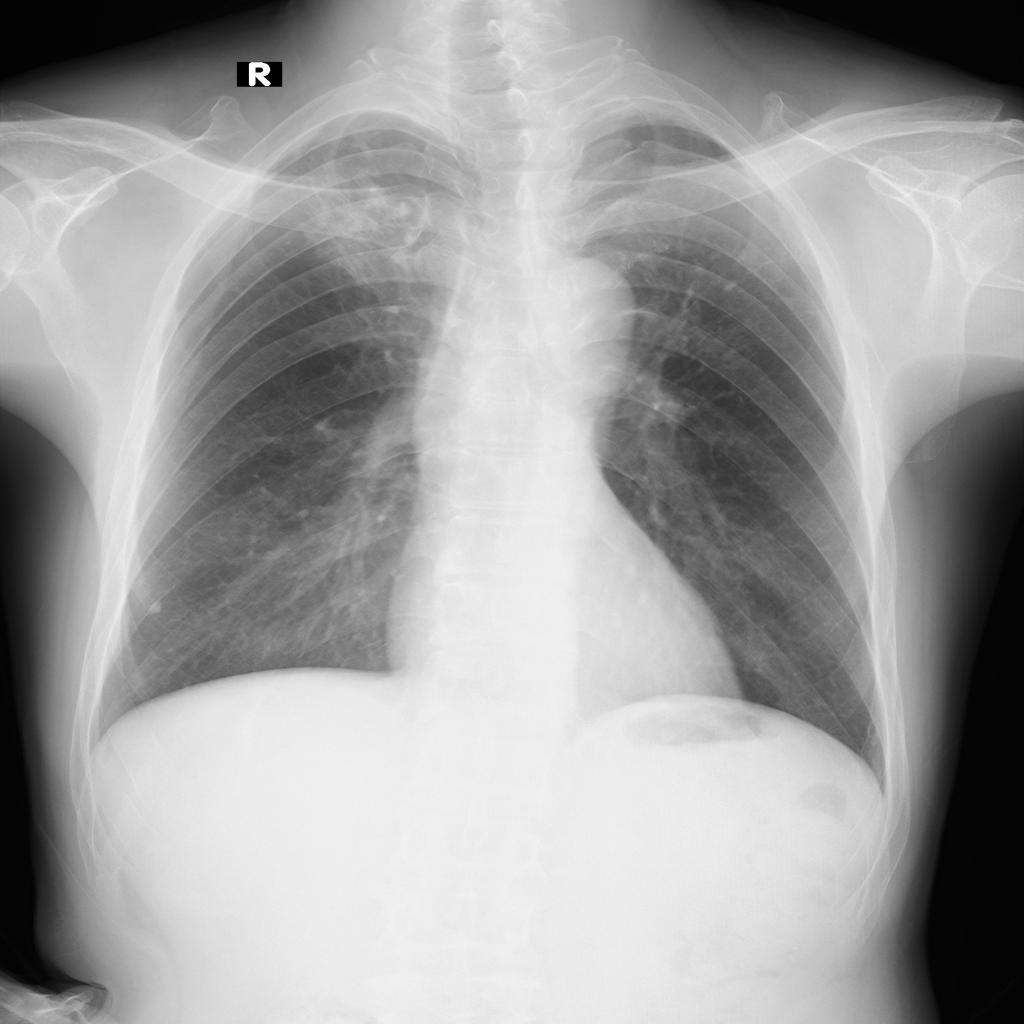Nodule: (147, 599, 164, 615)
